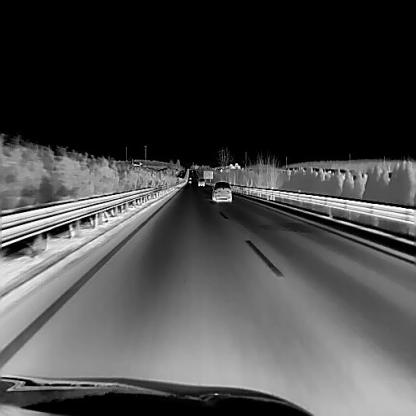car: (210, 180, 232, 201)
truck: (197, 176, 204, 186)
